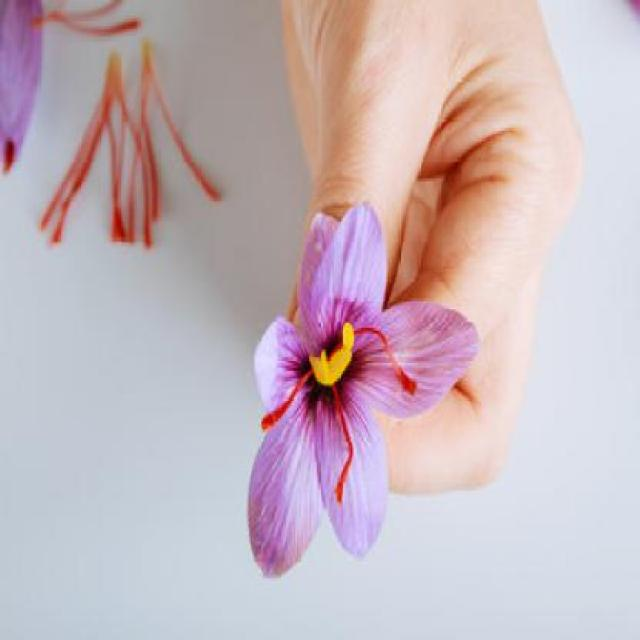Flower: (226, 198, 457, 589)
stigma: (352, 323, 421, 398), (250, 371, 314, 436), (327, 377, 358, 507)
